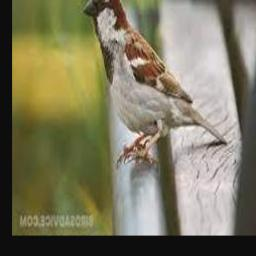Sparrow: (84, 0, 228, 169)
